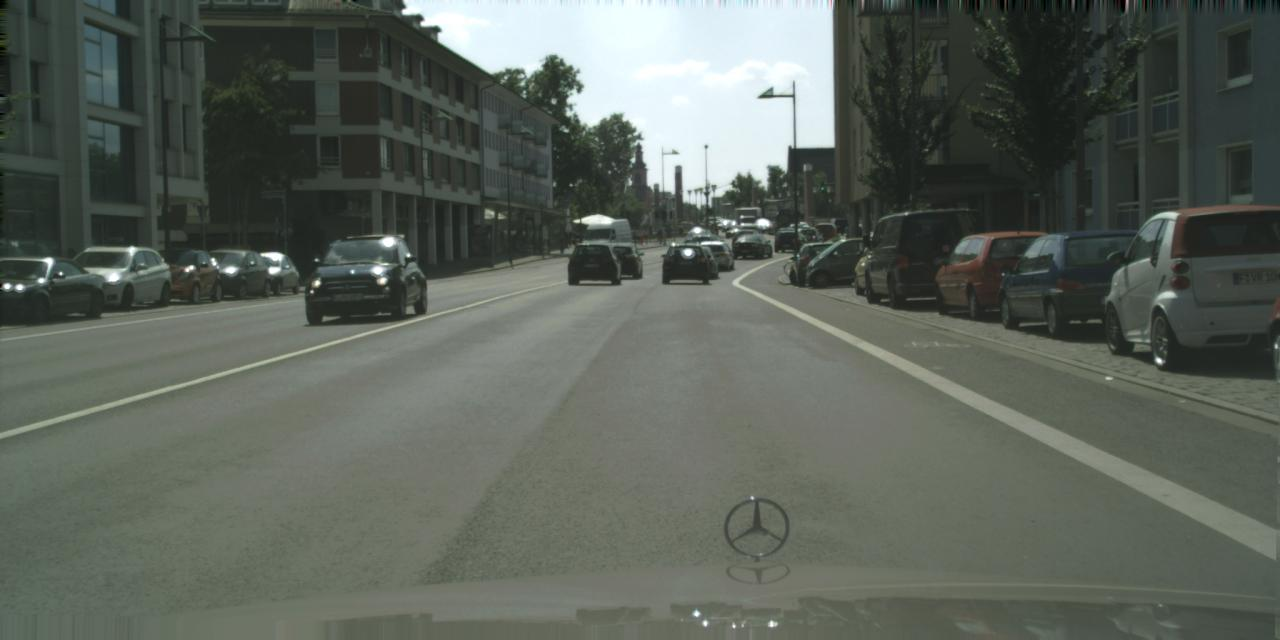ped: (660, 226, 667, 243), (646, 226, 653, 243), (632, 229, 638, 244), (636, 228, 642, 242), (638, 228, 644, 242), (643, 228, 648, 243), (657, 229, 662, 241)
